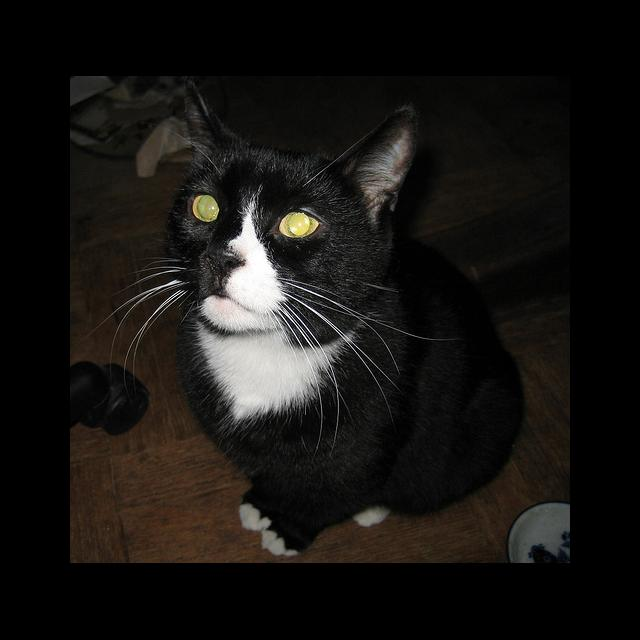animals: (190, 81, 415, 272)
